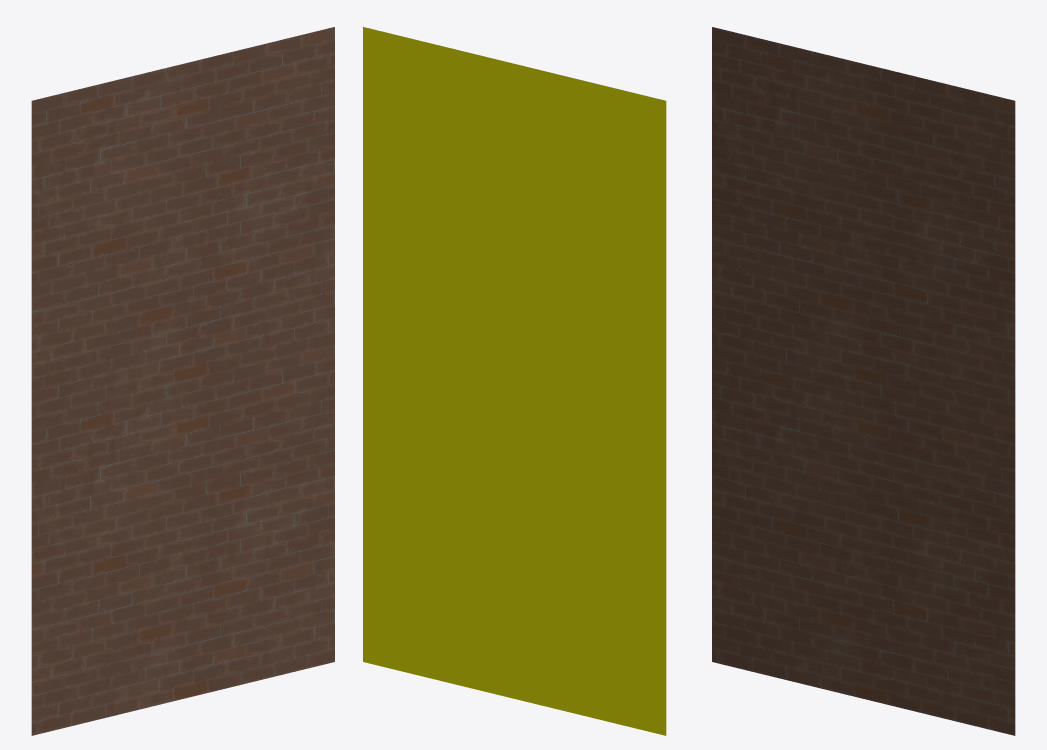
The model's file is brick-plain-4.glb.
The picture shows the model from 3 angles, left to right: view 1: azimuth 30°, elevation 25°; view 2: azimuth 150°, elevation 25°; view 3: azimuth 330°, elevation 25°; orthographic projection.
Visible parts, largest first — view 1: Brick_Plain_4; view 2: Brick_Plain_4; view 3: Brick_Plain_4.
Boxes of the visible parts, x1,y1,x2,y2 form: Brick_Plain_4: [31, 27, 334, 735]; Brick_Plain_4: [363, 27, 666, 735]; Brick_Plain_4: [712, 27, 1015, 735].
Bounding box in the file's own units: 2 × 4 × 0.2.
2 materials, 1 textured.
